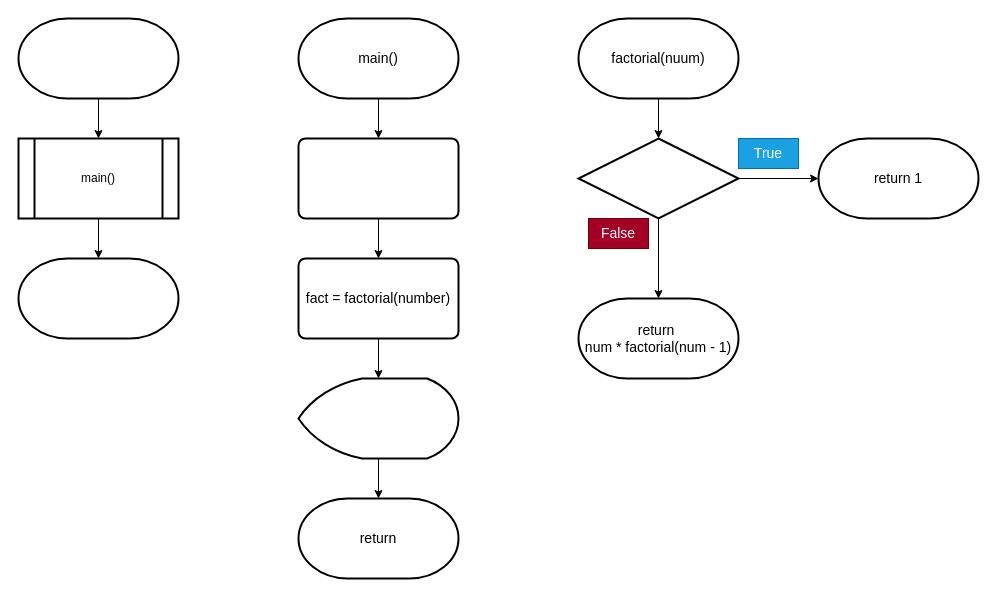
This 996x596 diagram has some shape labels left out. The shapes that lost their labels are listed below. From the top down, each one's centre as x and y in pixels, then its label:
[98,58]: Start
[378,178]: "Enter a nonegative interger : " number
[658,178]: num == 0
[98,298]: End
[378,418]: "The factorial of " number "is" fact
